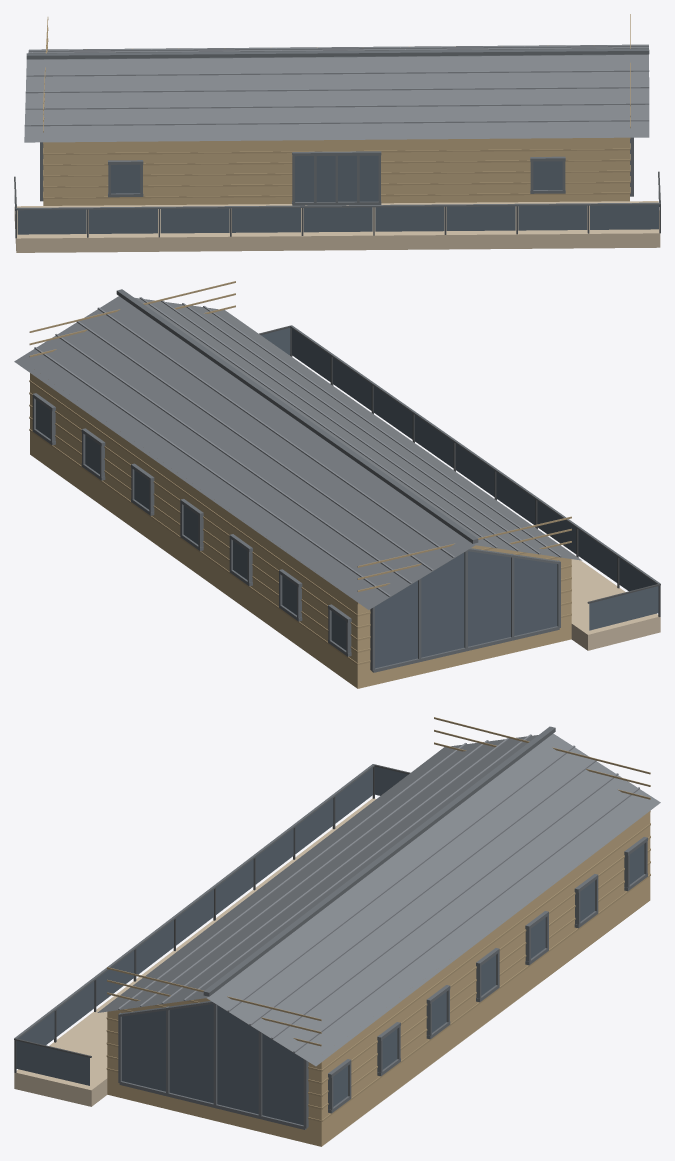
3 views of the same model, one above another, from view 1: azimuth 30°, elevation 25°; view 2: azimuth 150°, elevation 25°; view 3: azimuth 270°, elevation 25° (orthographic). The views are drawn at different scales.
Parts seen in each view (by area): view 1: slate, door_wood, larch, slate_dk, slate_lt, door_wood_p, window_glass_001, window_glass_003, window_glass_005, window_glass_008, window_glass_006, window_glass_007 (+10 smaller); view 2: slate, door_wood, window_glass_019, slate_dk, slate_lt, door_wood_p, larch, window_glass_010, pipe, window_glass_008, window_glass_002, window_glass_007 (+6 smaller); view 3: slate, door_wood, window_glass_018, slate_dk, slate_lt, door_wood_p, larch, window_glass_011, pipe, window_glass_003, window_glass_008, window_glass_002 (+6 smaller).
Part boxes in pixels (bbox=[...]): slate: bbox=[24, 44, 649, 142]; door_wood: bbox=[43, 45, 629, 205]; larch: bbox=[14, 201, 660, 252]; slate_dk: bbox=[16, 48, 660, 210]; slate_lt: bbox=[24, 45, 649, 126]; door_wood_p: bbox=[43, 14, 630, 198]; window_glass_001: bbox=[17, 209, 86, 234]; window_glass_003: bbox=[160, 208, 229, 233]; window_glass_005: bbox=[303, 207, 372, 232]; window_glass_008: bbox=[518, 205, 587, 230]; window_glass_006: bbox=[375, 206, 444, 231]; window_glass_007: bbox=[446, 206, 515, 230]; slate: bbox=[14, 296, 581, 609]; door_wood: bbox=[30, 373, 571, 688]; window_glass_019: bbox=[375, 551, 557, 668]; slate_dk: bbox=[32, 289, 660, 672]; slate_lt: bbox=[34, 297, 561, 597]; door_wood_p: bbox=[29, 281, 571, 664]; larch: bbox=[571, 559, 660, 650]; window_glass_010: bbox=[589, 586, 658, 630]; pipe: bbox=[259, 325, 660, 616]; window_glass_008: bbox=[332, 357, 371, 410]; window_glass_002: bbox=[578, 529, 617, 582]; window_glass_007: bbox=[373, 386, 412, 439]; slate: bbox=[97, 733, 660, 1066]; door_wood: bbox=[107, 811, 650, 1146]; window_glass_018: bbox=[122, 1004, 303, 1125]; slate_dk: bbox=[14, 726, 647, 1129]; slate_lt: bbox=[118, 734, 639, 1052]; door_wood_p: bbox=[106, 717, 650, 1121]; larch: bbox=[14, 798, 375, 1106]; window_glass_011: bbox=[16, 1040, 89, 1085]; pipe: bbox=[14, 764, 410, 1072]; window_glass_003: bbox=[255, 828, 293, 884]; window_glass_008: bbox=[56, 981, 94, 1036]; window_glass_002: bbox=[295, 798, 333, 853].
Size of the model in its own units: 22.06 by 4.14 by 17.64.
